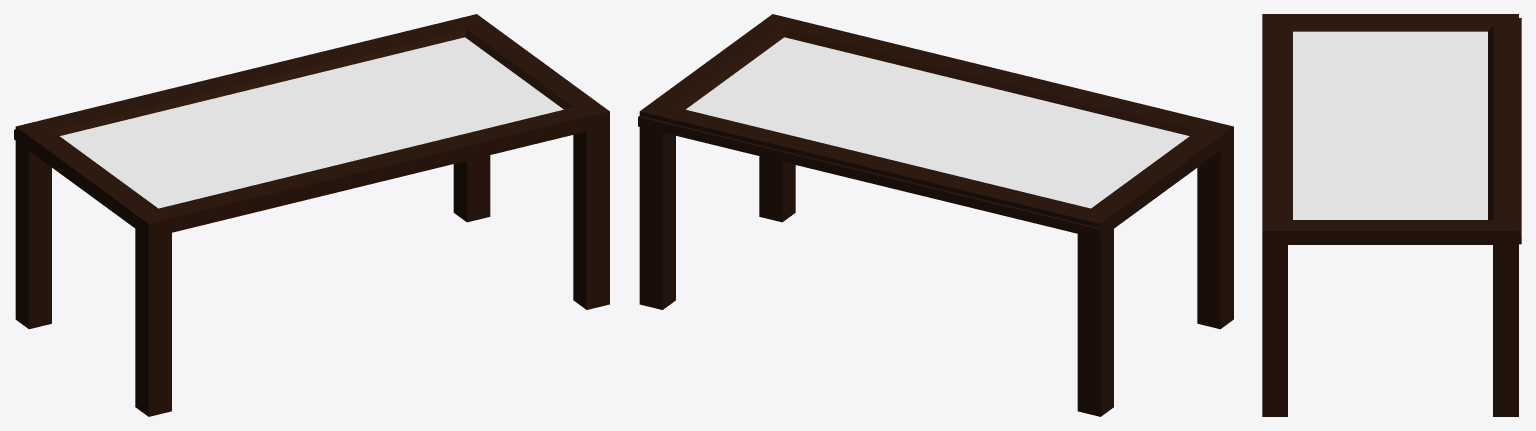
Rendered from Heist Table.FBX.
3 renders of one model, left to right at view 1: azimuth 30°, elevation 25°; view 2: azimuth 150°, elevation 25°; view 3: azimuth 270°, elevation 25°, orthographic. The views are drawn at different scales.
Parts seen in each view (by area): view 1: Heist Table Top, Heist Table Middle; view 2: Heist Table Top, Heist Table Middle; view 3: Heist Table Top, Heist Table Middle.
Part boxes in pixels (x1,y1,x2,y2): Heist Table Top: (15,14,609,416); Heist Table Middle: (14,129,147,236); Heist Table Top: (639,14,1233,416); Heist Table Middle: (638,116,1232,238); Heist Table Top: (1262,14,1518,416); Heist Table Middle: (1519,18,1521,244).
Size of the model in its own units: 1 by 0.4 by 0.5057.
